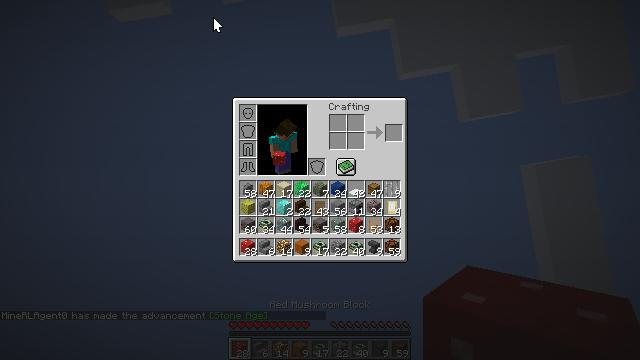cursor: (213, 17, 223, 33)
